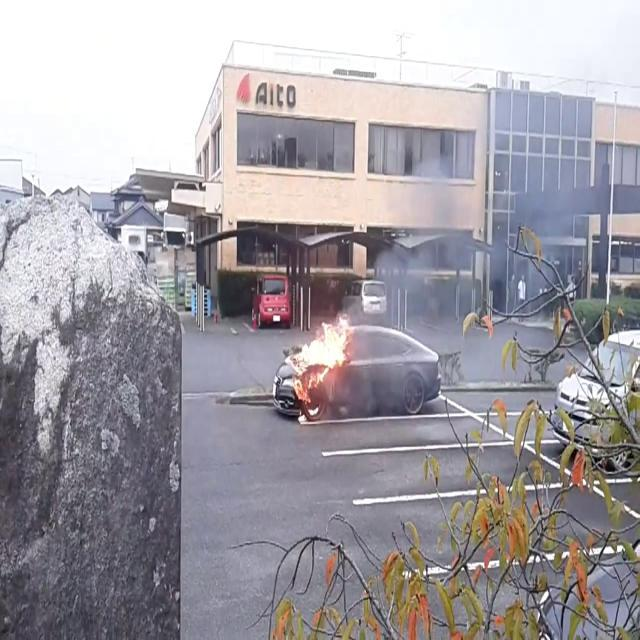Fire: (287, 311, 354, 405)
Smoke: (364, 133, 480, 397)
